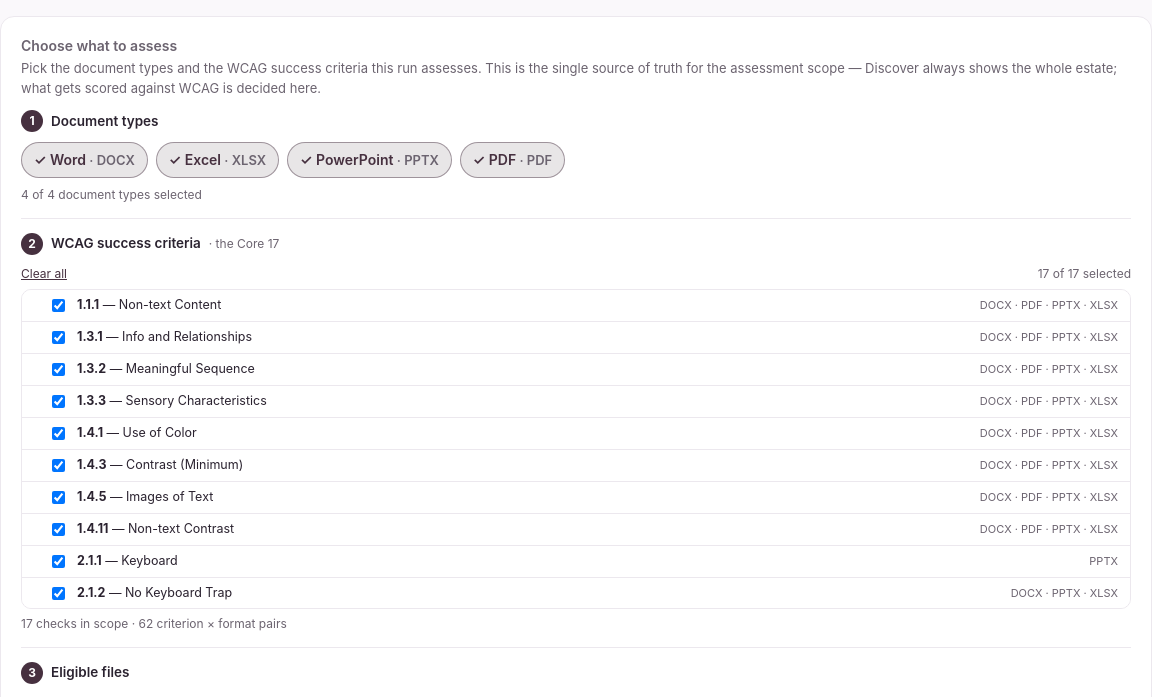
Test: the eligible-file count reflects the selection › starts at the full selection and drops when a code is unticked
This screenshot has width=1152, height=697.
Click the checkbox labelled "1.1.1 — Non-text Content DOCX · PDF · PPTX · XLSX". click: coordinates (58, 305)
box: [52,298,65,312]
(page scrolled)
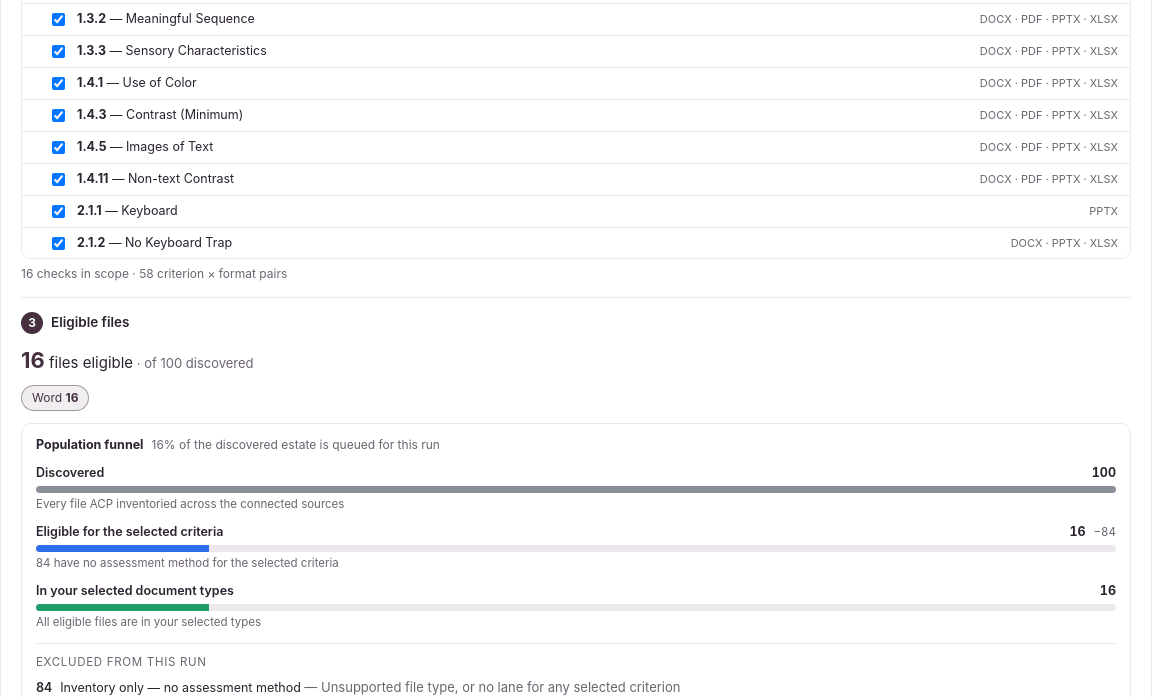
Result: the element with class "assessscope-elign" reads "16 files eligible · of 100 discovered" at [21,346,254,372]
